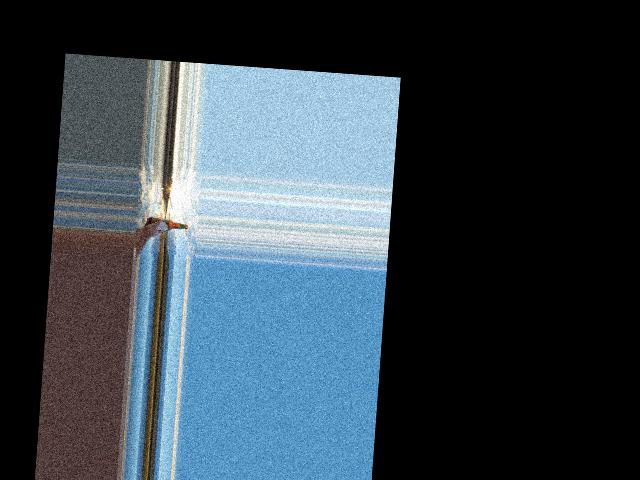beer: (148, 216, 188, 232)
